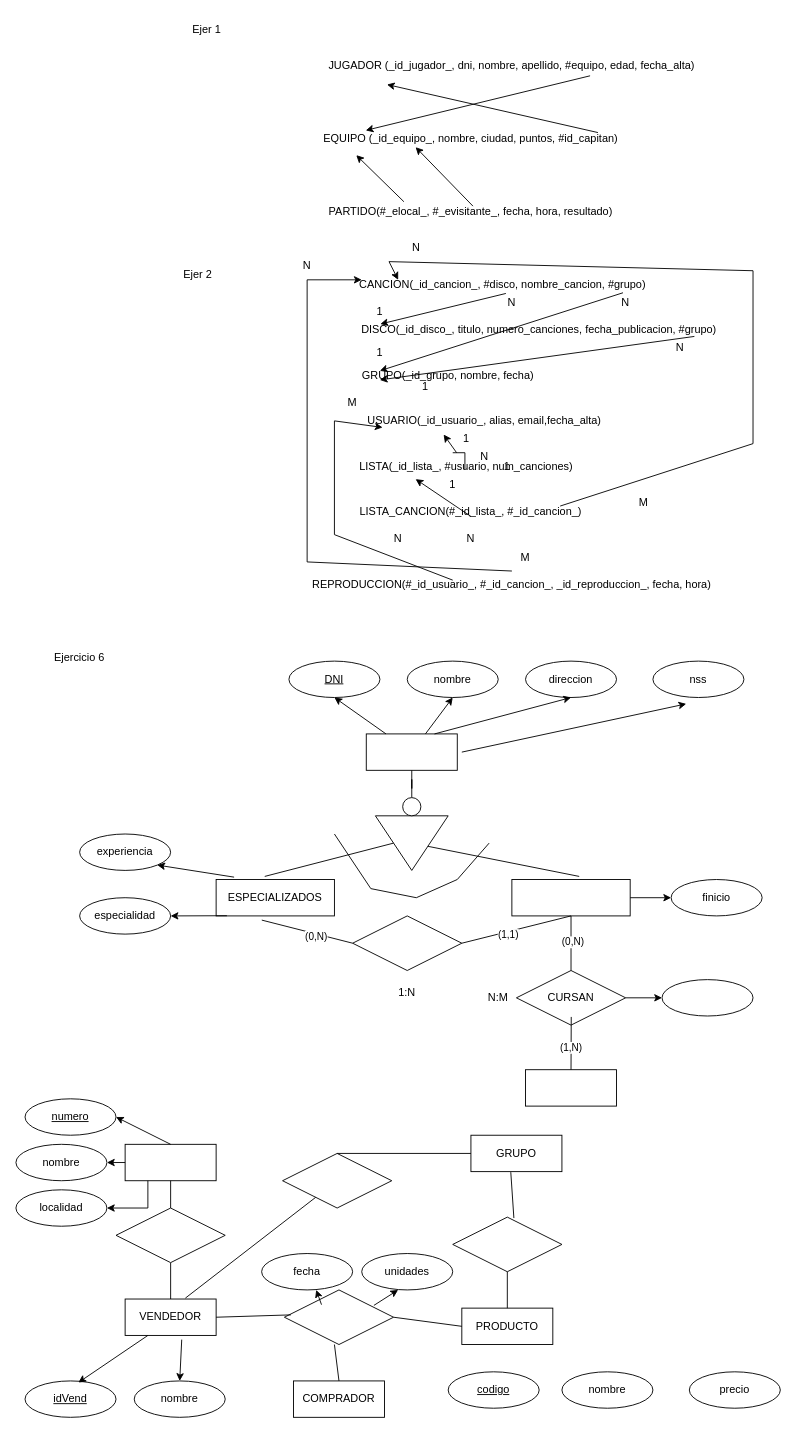
Some shapes in this 796 by 1433 pixel diagram are drawn without their labels. The shapes that lost their labels are listed below. From the top down, each one's centre as x and y in pixels, then its label:
the point at 411,751: OPERARIOS
the point at 570,897: APRENDICES
the point at 407,943: SON_RESP
the point at 707,997: calificaciones
the point at 571,1087: CURSOS
the point at 170,1162: ZONA
the point at 337,1180: COMERCIALIZA
the point at 170,1235: ASIGNADO
the point at 507,1244: CONTIENE
the point at 338,1317: VENDE
